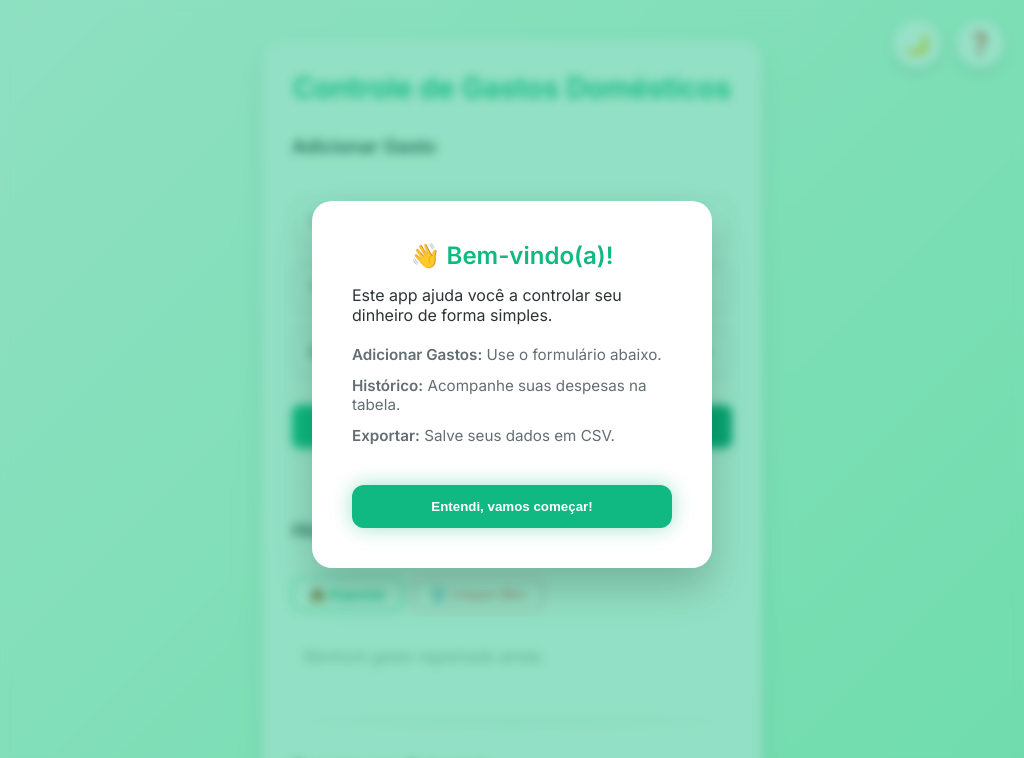
Test case: E2E: Fluxos Críticos e Persistência › Deve adicionar um novo gasto com sucesso e validar o resumo
The width and height of the screenshot is (1024, 758).
Click the button with test id "btn-fechar-tutorial": {"x": 512, "y": 507} [352,485,672,528]
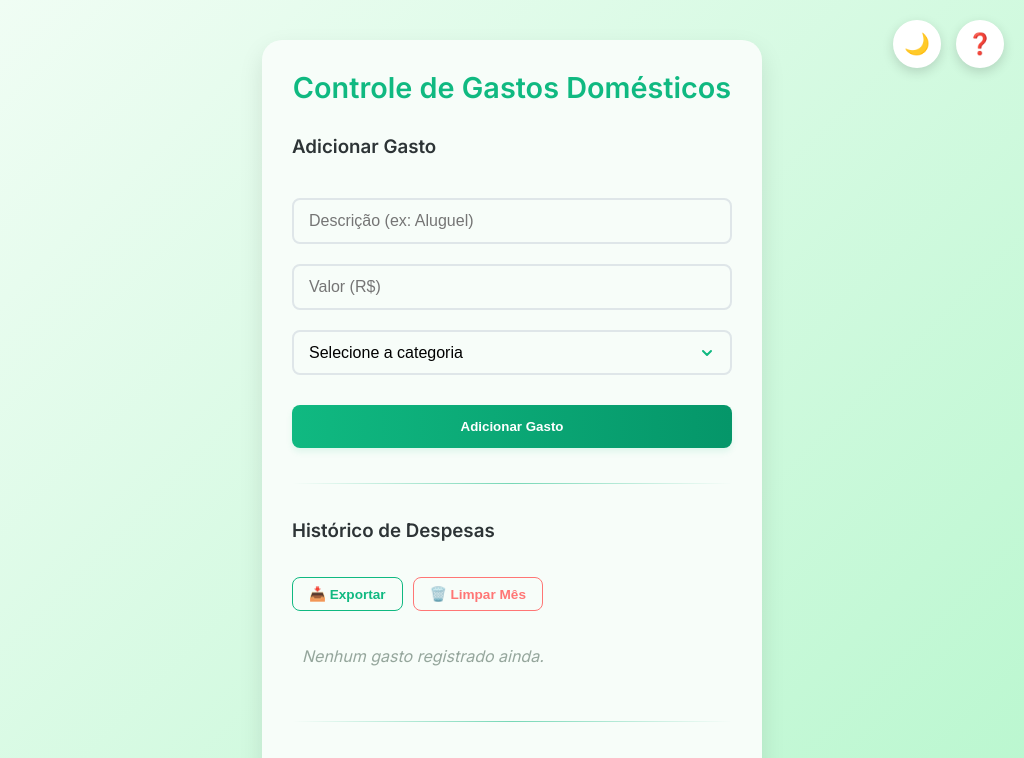
In the field with test id "input-descricao": {"x": 512, "y": 221} [292,198,732,244], type "Aluguel"
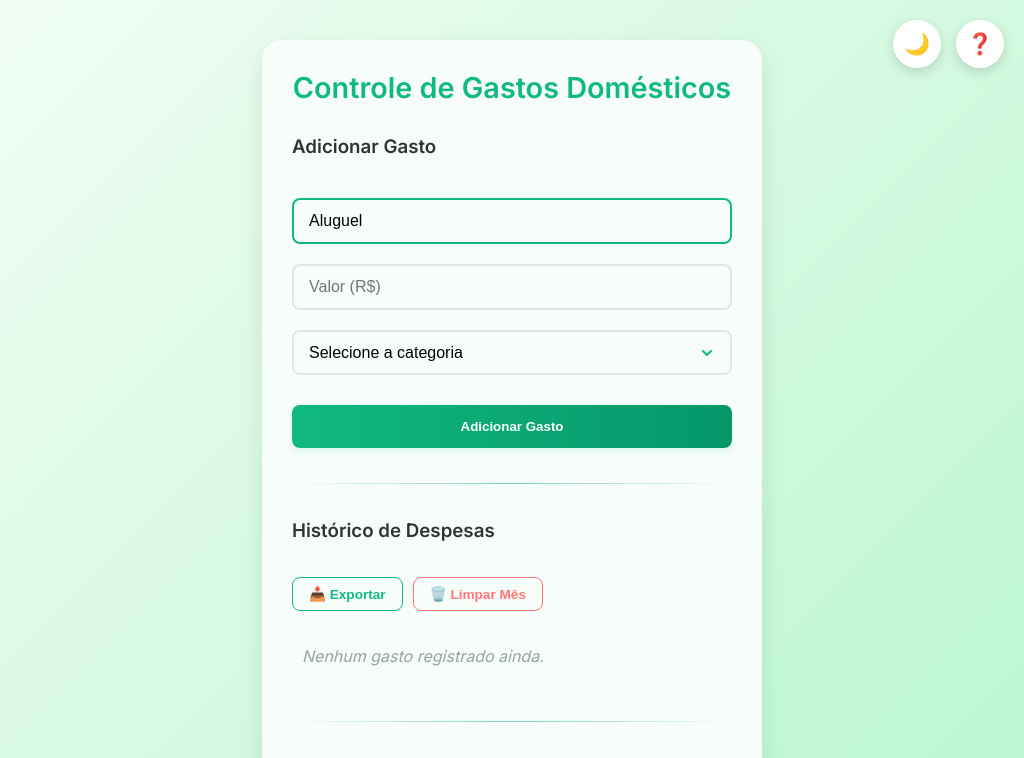
In the number field with test id "input-valor": {"x": 512, "y": 287} [292,264,732,310], type "1200"
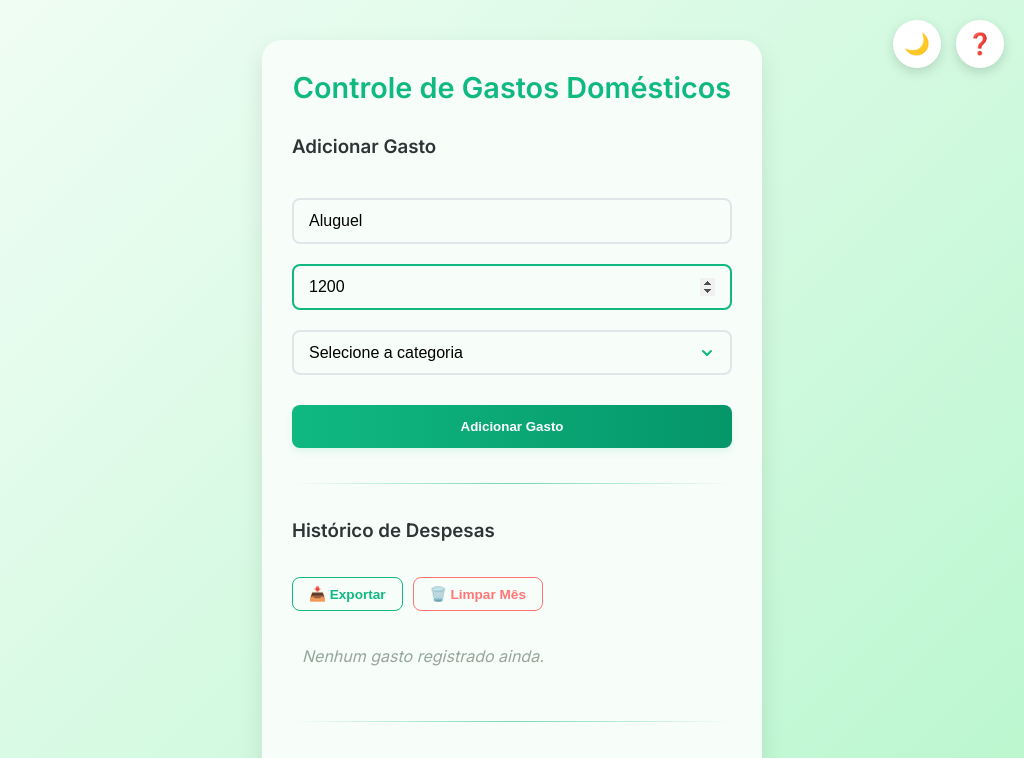
Select "Moradia" in the dropdown with test id "select-categoria": {"x": 512, "y": 353} [292,330,732,375]
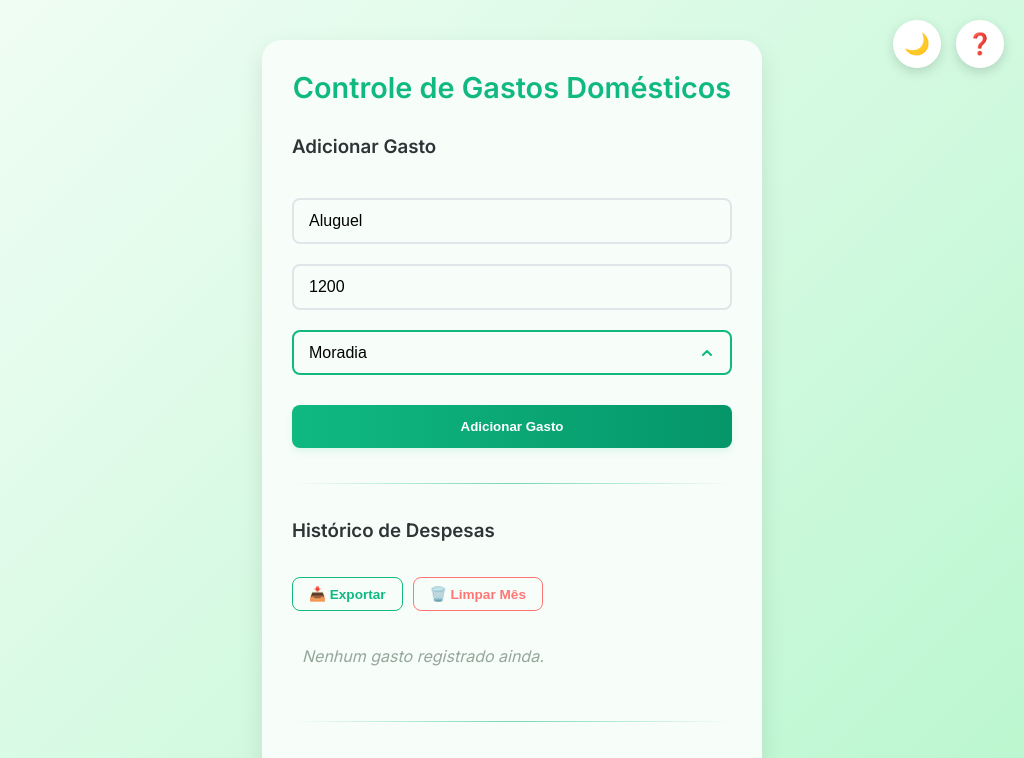
Click the button with test id "btn-adicionar": {"x": 512, "y": 427} [292,405,732,448]
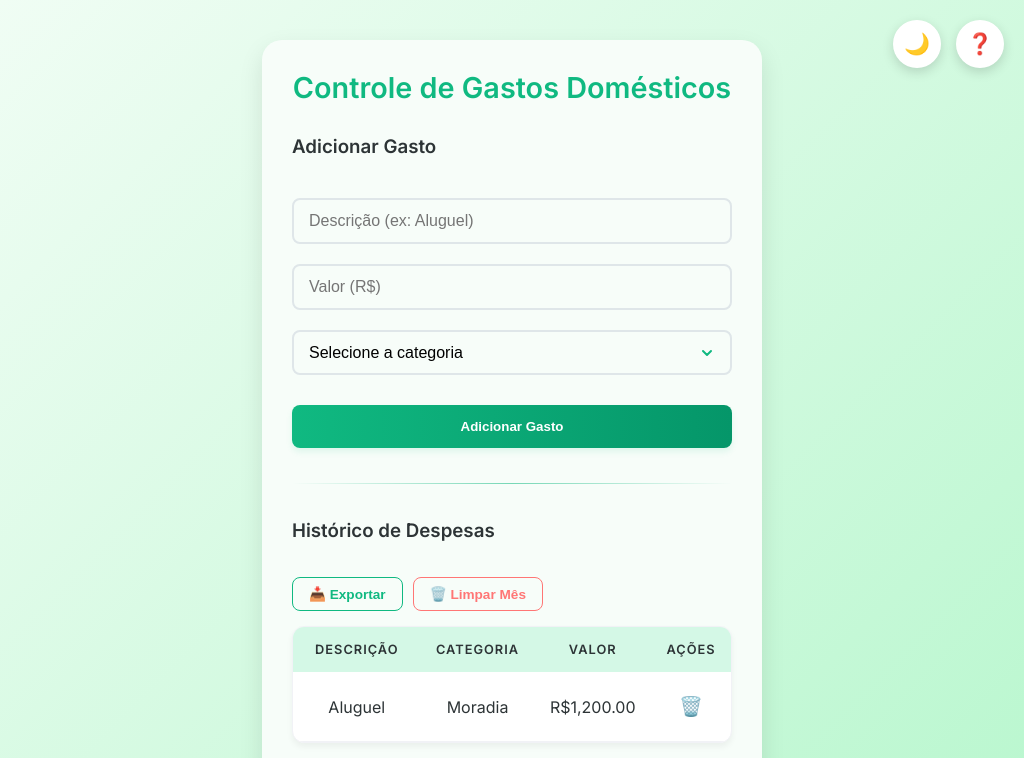
Result: the number of rows with test id "item-gasto" is 1 at [293,672,731,742]
Result: the cell with test id "gasto-descricao" reads "Aluguel" at [328,697,385,717]
Result: the cell with test id "gasto-valor" reads "R$1,200.00" at [550,697,636,717]
